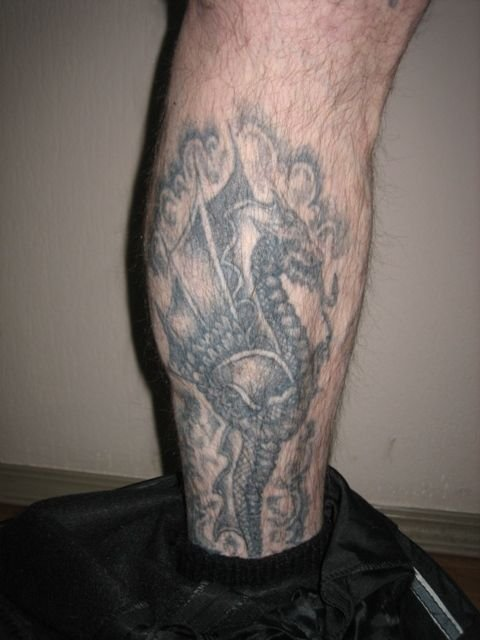tatu6_drakon: (111, 109, 402, 553)
